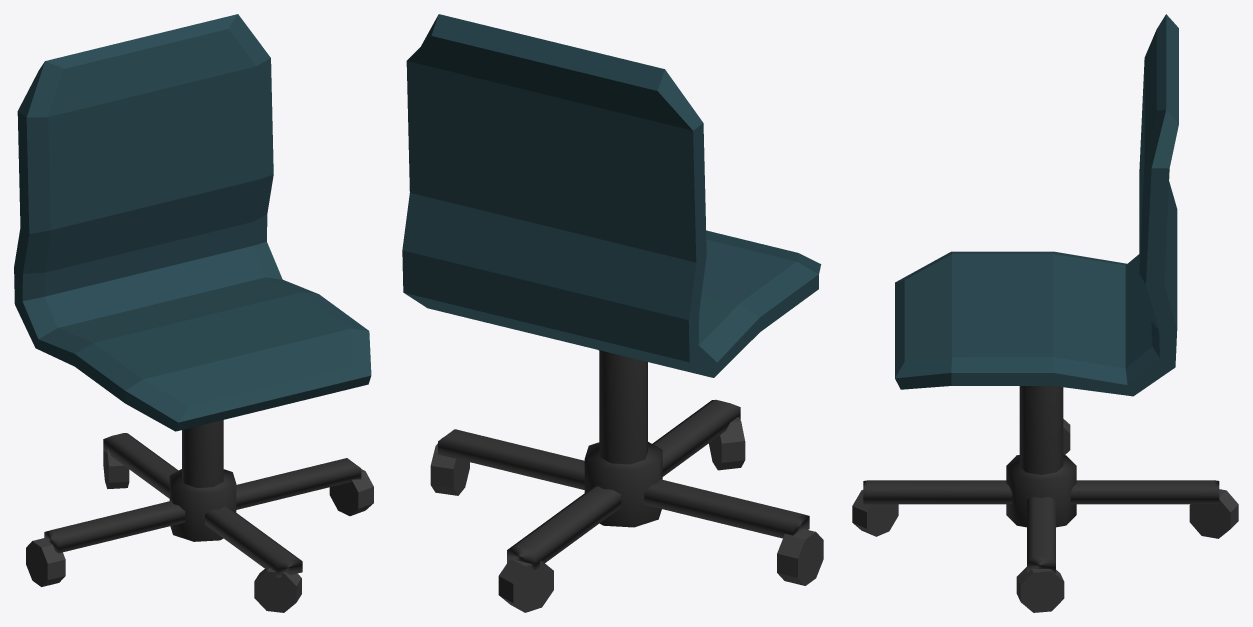
The model's file is mesh_furniture_chair_03.fbx.
3 views of the same model, side by side, from view 1: azimuth 30°, elevation 25°; view 2: azimuth 150°, elevation 25°; view 3: azimuth 270°, elevation 25° (orthographic). The views are drawn at different scales.
Parts seen in each view (by area): view 1: mesh_furniture_chair_02, mesh_furniture_chair_03, mesh_furniture_chair_01; view 2: mesh_furniture_chair_02, mesh_furniture_chair_03, mesh_furniture_chair_01; view 3: mesh_furniture_chair_02, mesh_furniture_chair_03, mesh_furniture_chair_01.
Part boxes in pixels (x1,y1,x2,y2): mesh_furniture_chair_02: [14, 14, 371, 431]; mesh_furniture_chair_03: [44, 420, 361, 578]; mesh_furniture_chair_01: [26, 449, 373, 612]; mesh_furniture_chair_02: [402, 14, 821, 377]; mesh_furniture_chair_03: [438, 350, 809, 569]; mesh_furniture_chair_01: [430, 417, 823, 612]; mesh_furniture_chair_02: [895, 14, 1178, 396]; mesh_furniture_chair_03: [863, 386, 1219, 573]; mesh_furniture_chair_01: [852, 419, 1238, 612].
Size of the model in its own units: 9.03 by 12.37 by 9.17.
